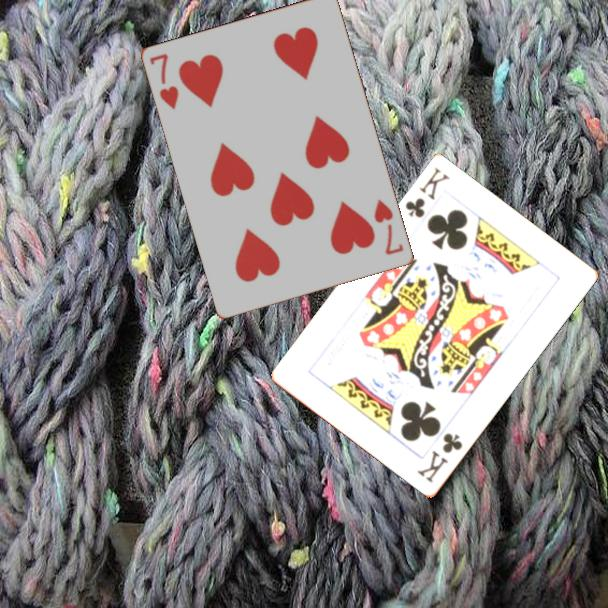c13: (401, 164, 453, 221), (414, 430, 466, 486)
h07: (146, 50, 182, 113), (371, 196, 407, 258)
